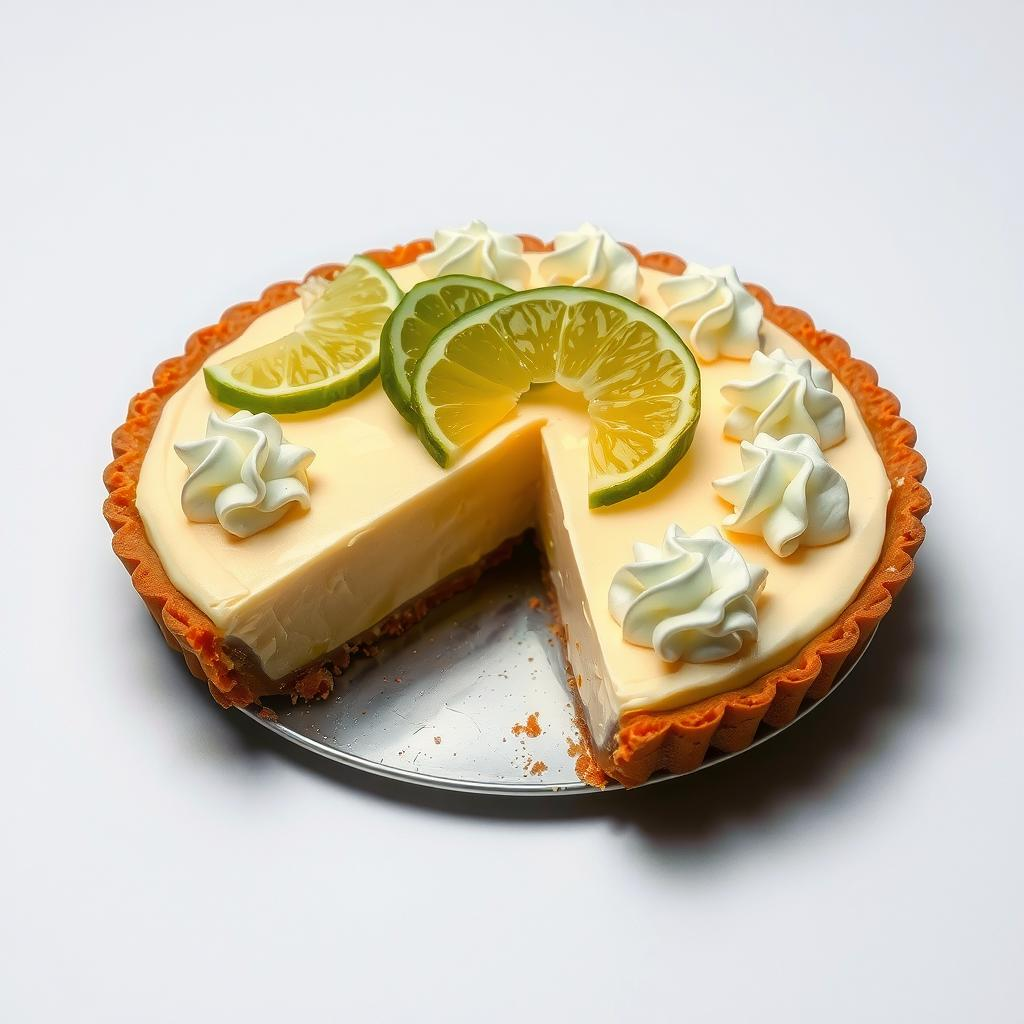cake: (93, 216, 944, 791)
